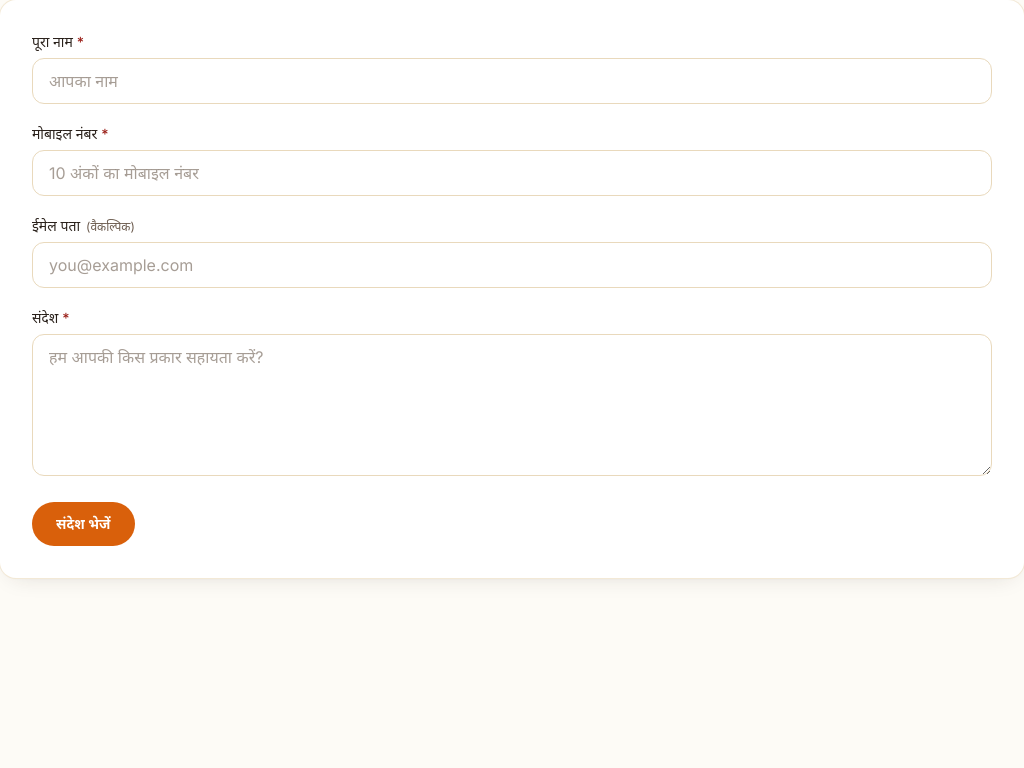
Test: ContactForm › shows validation errors and does not submit when required fields are invalid
This screenshot has width=1024, height=768.
Click the button "संदेश भेजें" at (83, 524), box [32, 502, 134, 546]
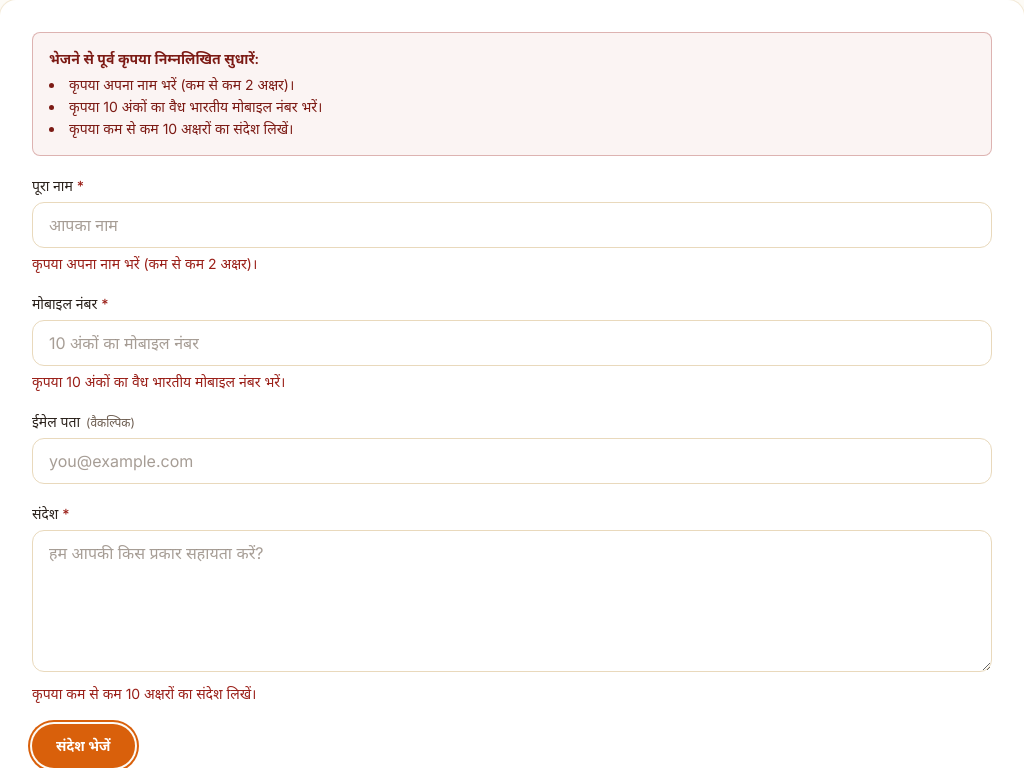
Check: the message is shown, box [32, 32, 992, 156]
